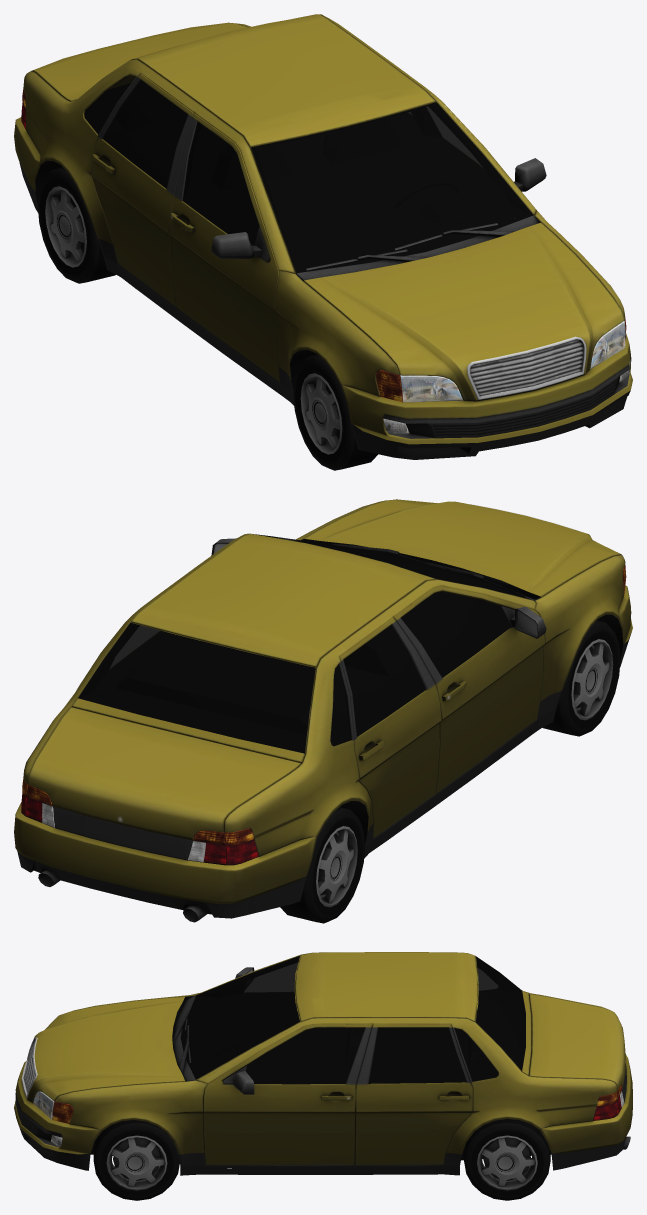
Rendered from sedan-1.glb.
3 views of the same model, one above another, from view 1: azimuth 30°, elevation 25°; view 2: azimuth 150°, elevation 25°; view 3: azimuth 270°, elevation 25° (orthographic). The views are drawn at different scales.
Parts seen in each view (by area): view 1: body, wheel_FR_mesh, wheel_RR_mesh, door_driver_mesh; view 2: body, wheel_RR_mesh, wheel_FR_mesh; view 3: body, door_driver_mesh, wheel_RL_mesh, wheel_FL_mesh.
Part boxes in pixels (bbox=[...]): body: bbox=[14, 14, 632, 459]; wheel_FR_mesh: bbox=[293, 354, 377, 470]; wheel_RR_mesh: bbox=[38, 167, 115, 283]; door_driver_mesh: bbox=[404, 72, 546, 224]; body: bbox=[14, 499, 632, 922]; wheel_RR_mesh: bbox=[280, 807, 364, 923]; wheel_FR_mesh: bbox=[543, 620, 620, 736]; body: bbox=[14, 952, 632, 1175]; door_driver_mesh: bbox=[192, 1019, 354, 1168]; wheel_RL_mesh: bbox=[464, 1119, 550, 1200]; wheel_FL_mesh: bbox=[93, 1120, 179, 1200].
Size of the model in its own units: 2.14 by 1.48 by 4.8.
Materials: 4 (3 with a texture image).
